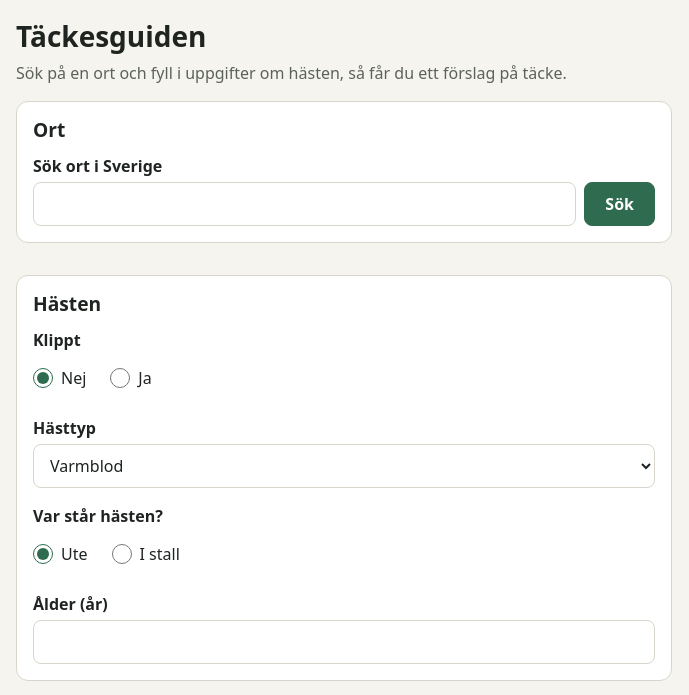
Test: App › goes from search and horse details to a recommendation
In the search field labelled "Sök ort i Sverige": (305, 204) [33,182,576,226], type "Uppsala"
Then press Enter
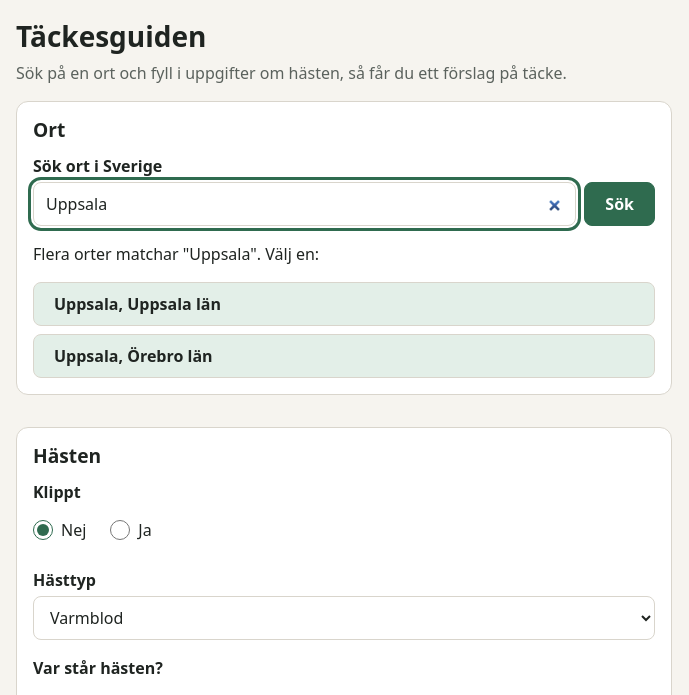
Click the button "Uppsala, Uppsala län": click(137, 304) [33,282,655,326]
(page scrolled)
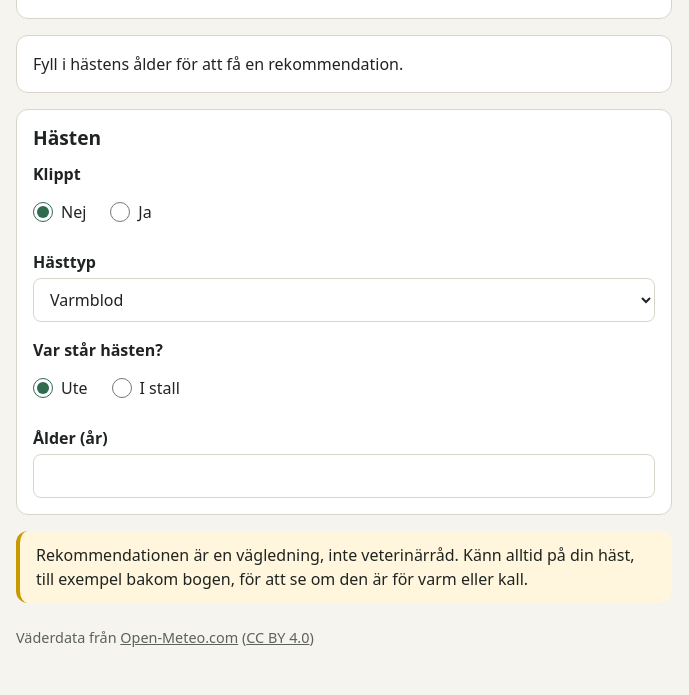
Now the text "Fyll i hästens ålder för att få en rekommendation." is shown, box [16,35,672,93]
In the number field labelled "Ålder (år)": (344, 476) [33,454,655,498], type "10"
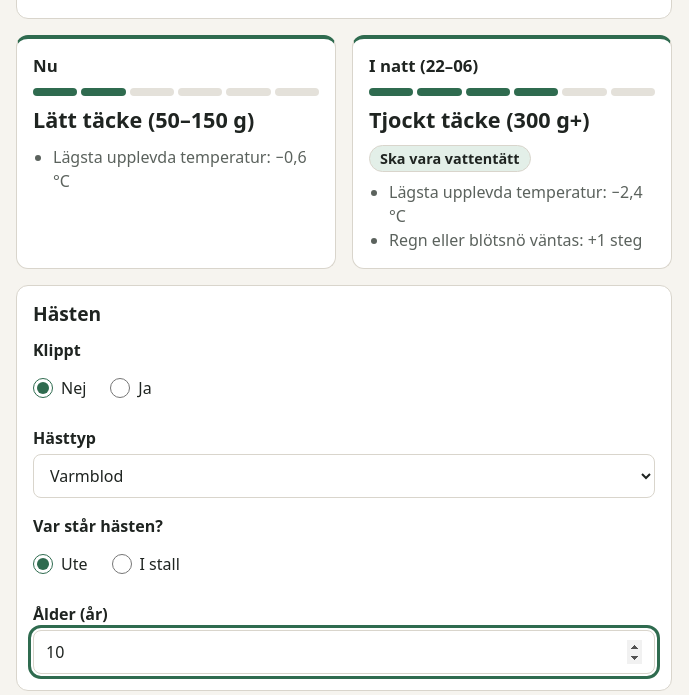
Now the element "Nu" shows "Lätt täcke (50–150 g)", box [33,105,254,134]
Now the element "I natt (22–06)" shows "Tjockt täcke (300 g+)", box [369,105,590,134]
Now the element "I natt (22–06)" shows "Ska vara vattentätt", box [380,149,520,168]
